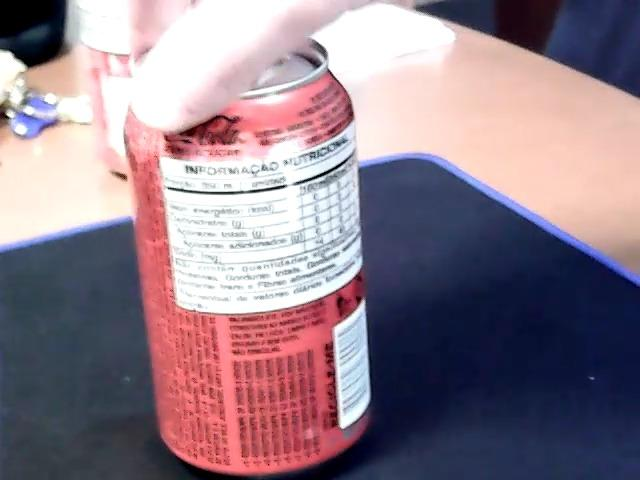coke: (124, 43, 371, 478), (72, 2, 194, 175)
